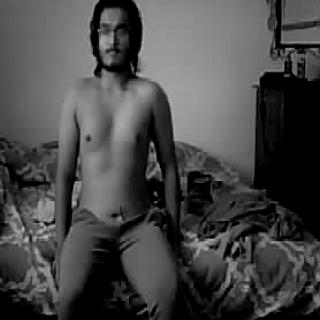Blue Sweatpants: (45, 212, 182, 320)
